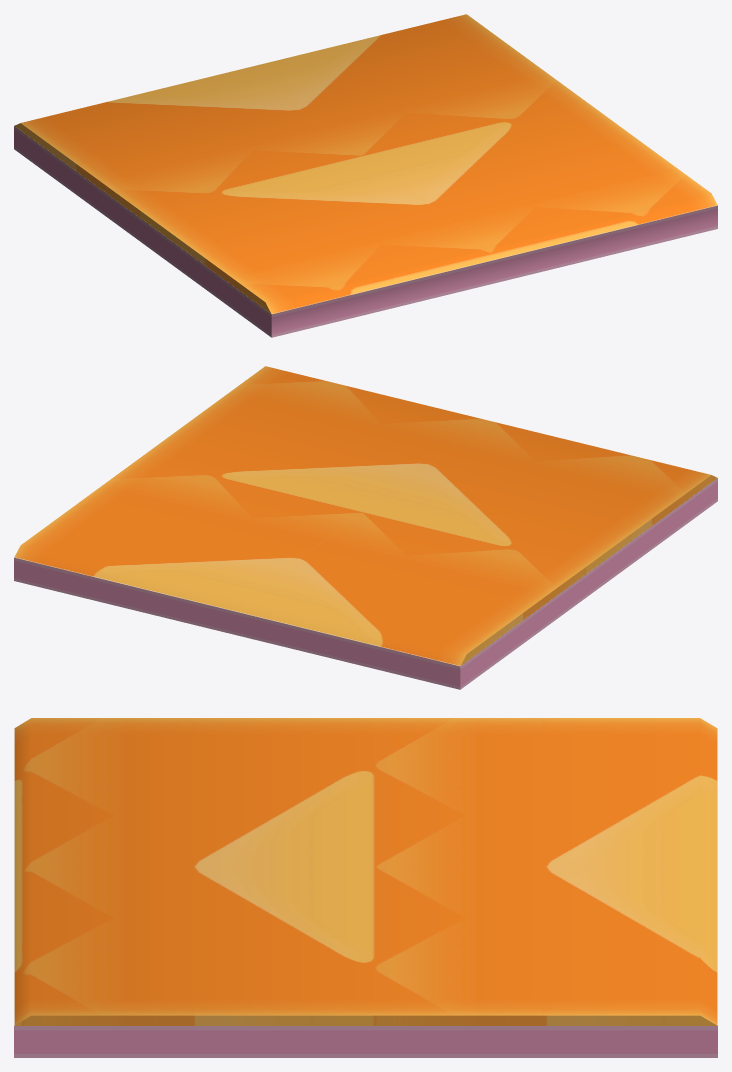
The model's file is toy__treadmill_ugc_a_000_1x1 (1).glb.
3 renders of one model, top to bottom at view 1: azimuth 30°, elevation 25°; view 2: azimuth 150°, elevation 25°; view 3: azimuth 270°, elevation 25°, orthographic. The views are drawn at different scales.
Visible parts, largest first — view 1: TreadMill_2, UGC_Pri_Cube_7; view 2: TreadMill_2, UGC_Pri_Cube_7; view 3: TreadMill_2, UGC_Pri_Cube_7.
Part boxes in pixels (x1=…): TreadMill_2: x1=14, y1=14, x2=717, y2=314; UGC_Pri_Cube_7: x1=14, y1=125, x2=717, y2=337; TreadMill_2: x1=14, y1=366, x2=717, y2=666; UGC_Pri_Cube_7: x1=14, y1=478, x2=717, y2=689; TreadMill_2: x1=14, y1=718, x2=717, y2=1025; UGC_Pri_Cube_7: x1=14, y1=728, x2=717, y2=1057.
Size of the model in its own units: 2 by 0.1324 by 2.
Materials: 3 (2 with a texture image).
